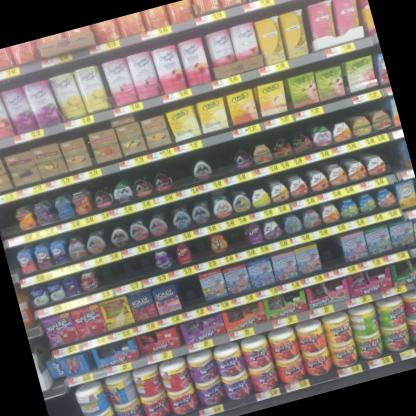empty_space: (94, 248, 160, 288), (204, 139, 238, 180), (174, 270, 209, 309), (376, 135, 411, 172), (315, 233, 348, 271), (164, 152, 196, 191), (44, 391, 87, 416), (0, 201, 22, 237), (410, 177, 416, 207)
